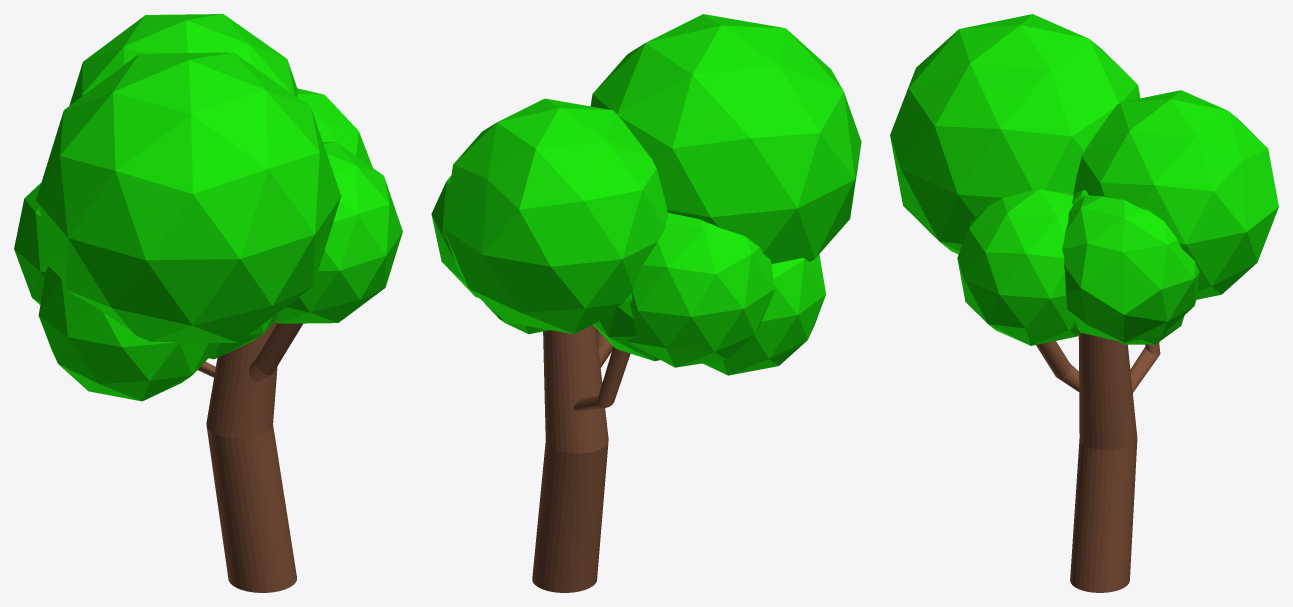
Rendered from three.glb.
3 renders of one model, left to right at view 1: azimuth 30°, elevation 25°; view 2: azimuth 150°, elevation 25°; view 3: azimuth 270°, elevation 25°, orthographic. The views are drawn at different scales.
Parts seen in each view (by area): view 1: Circle; view 2: Circle; view 3: Circle.
Boxes of the visible parts, box(x1,y1,x2,y2) form: Circle: box(14, 14, 402, 592); Circle: box(431, 14, 861, 592); Circle: box(890, 14, 1278, 592).
Bounding box in the file's own units: 3.1 × 4.75 × 3.32.
